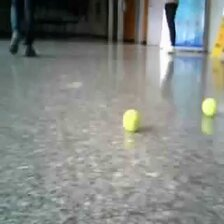tennis: (122, 109, 140, 130), (202, 98, 217, 117)
